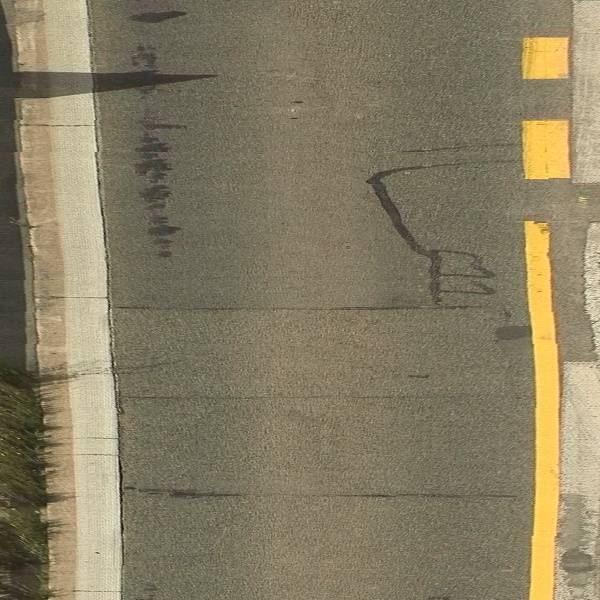road_damage: (362, 159, 502, 315), (102, 299, 517, 321), (132, 106, 185, 265), (560, 485, 600, 590)
